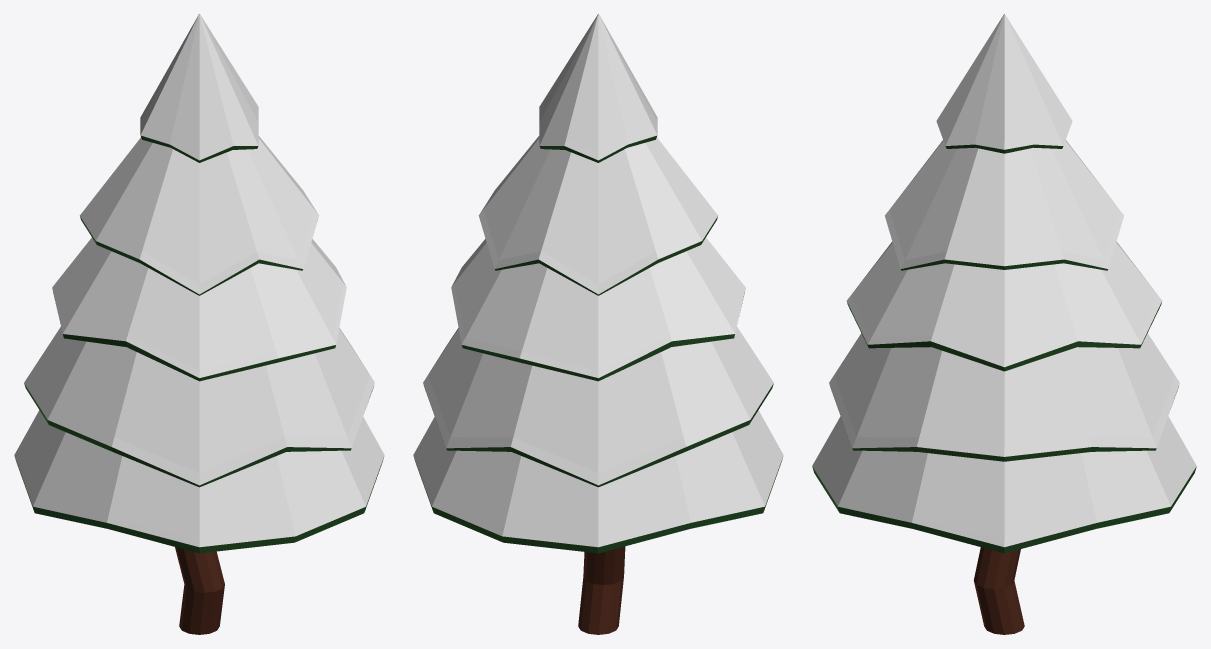
The model's file is елка_5.fbx.
3 views of the same model, side by side, from view 1: azimuth 30°, elevation 25°; view 2: azimuth 150°, elevation 25°; view 3: azimuth 270°, elevation 25° (orthographic).
Parts seen in each view (by area): view 1: елка_1.003; view 2: елка_1.003; view 3: елка_1.003.
Boxes of the visible parts, x1,y1,x2,y2 form: елка_1.003: [14, 14, 384, 634]; елка_1.003: [413, 14, 783, 634]; елка_1.003: [812, 14, 1196, 634].
Bounding box in the file's own units: 169 × 297 × 169.
